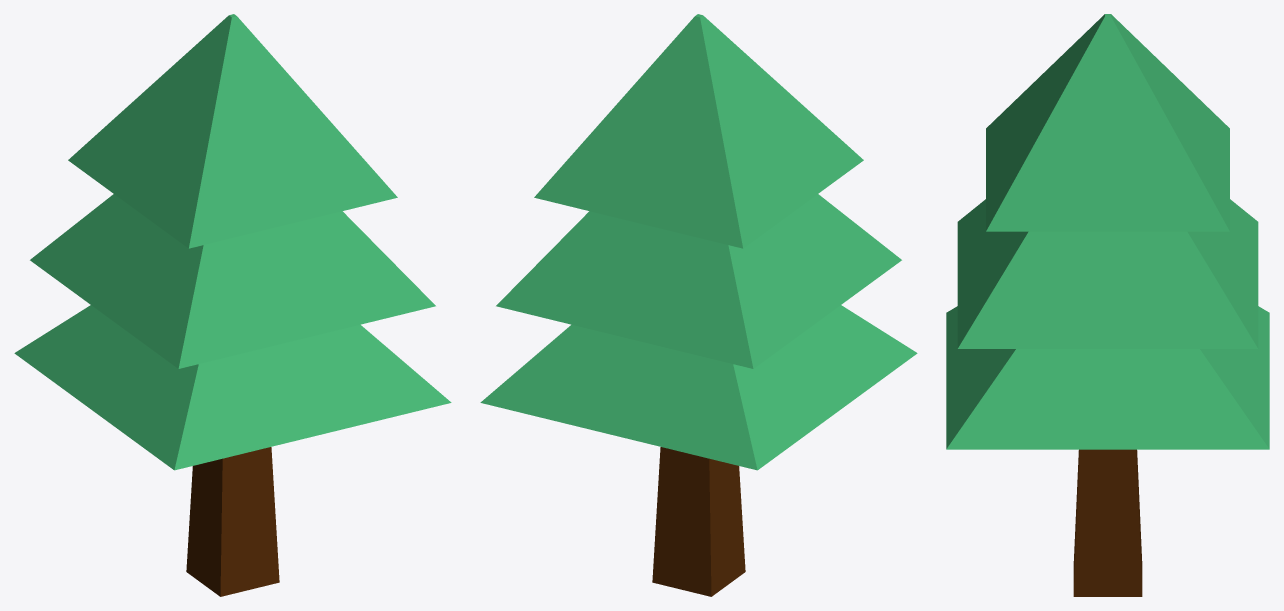
File: Tree 1.fbx
The picture shows the model from 3 angles, left to right: view 1: azimuth 30°, elevation 25°; view 2: azimuth 150°, elevation 25°; view 3: azimuth 270°, elevation 25°; orthographic projection.
Parts seen in each view (by area): view 1: Cube; view 2: Cube; view 3: Cube.
Part boxes in pixels (x1,y1,x2,y2): Cube: (14, 14, 451, 596); Cube: (480, 14, 917, 596); Cube: (946, 14, 1269, 596).
Bounding box in the file's own units: 382 × 738 × 382.
